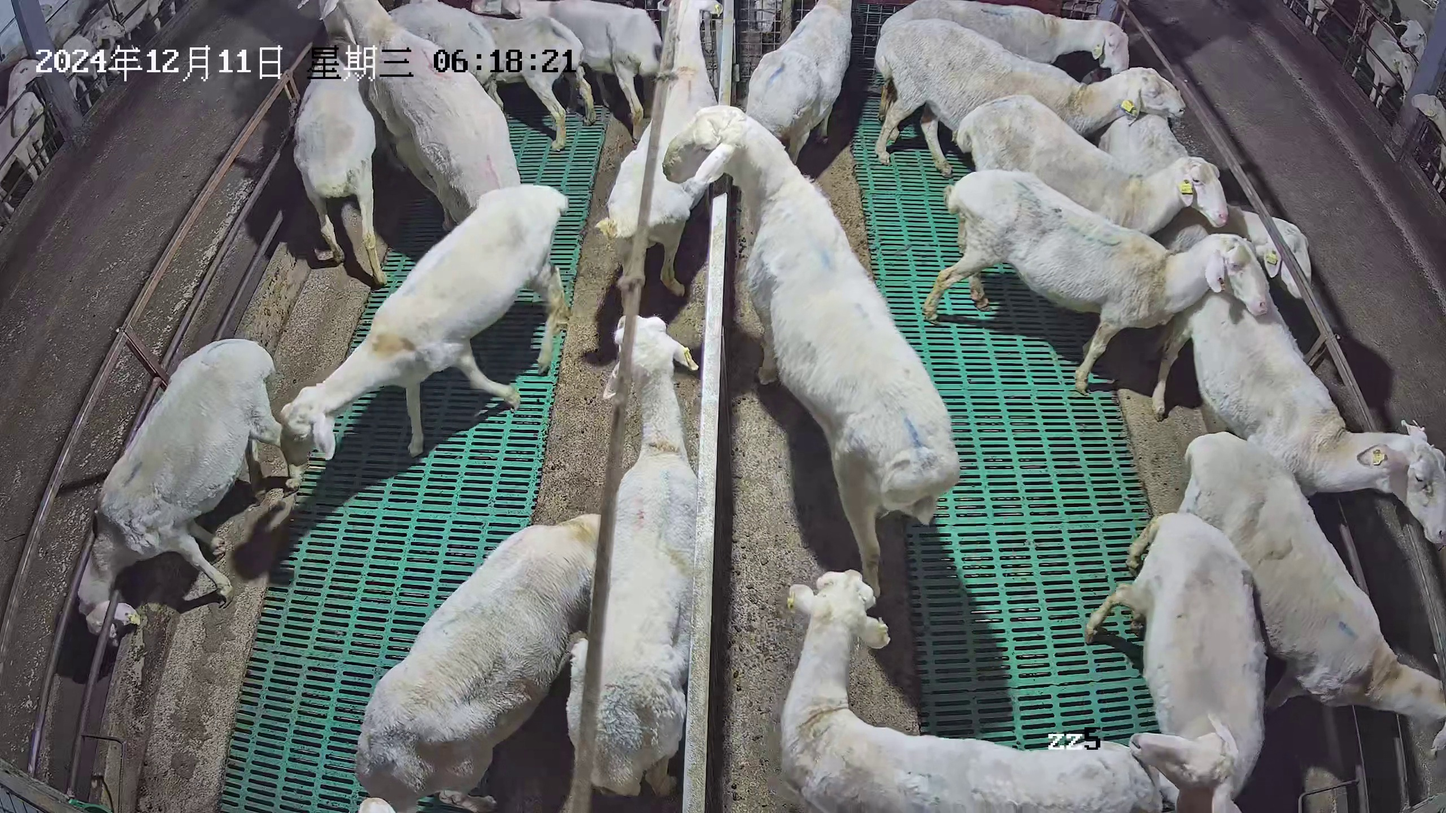Smounting: (317, 1, 521, 232)
mounted: (368, 83, 468, 230)
